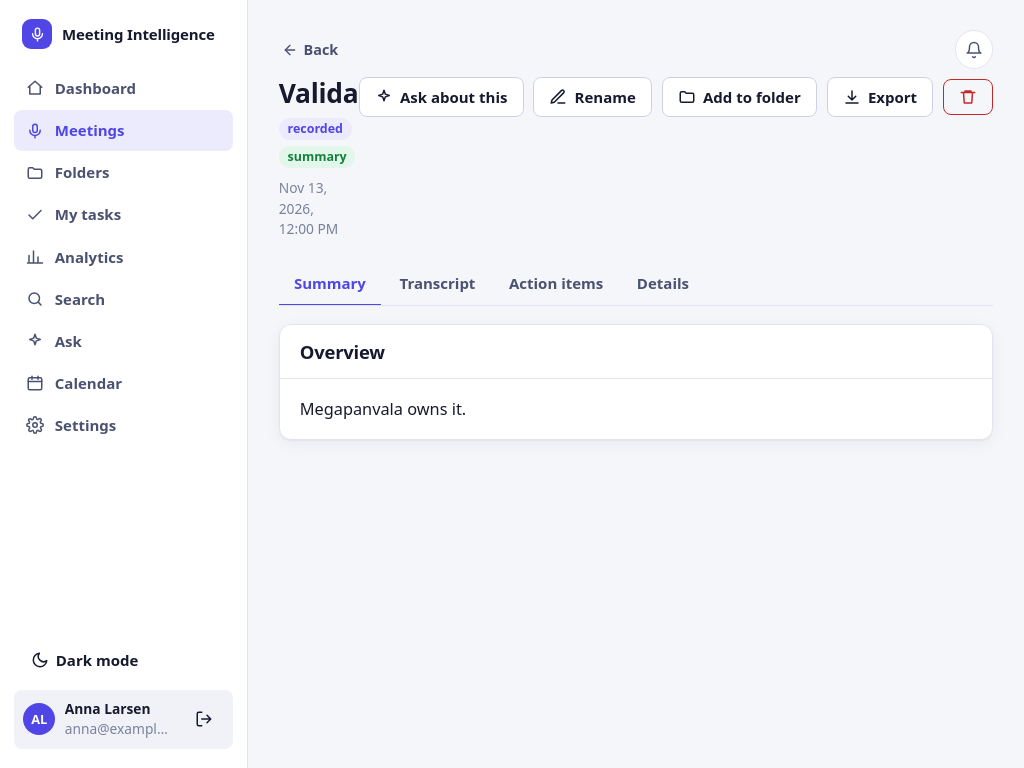
correcting the transcript › find & replace: starts from the selected word, shows the count, replaces everywhere
This screenshot has width=1024, height=768.
Step 1. Click the tab "Transcript" → (437, 284), box [384,262,491,306]
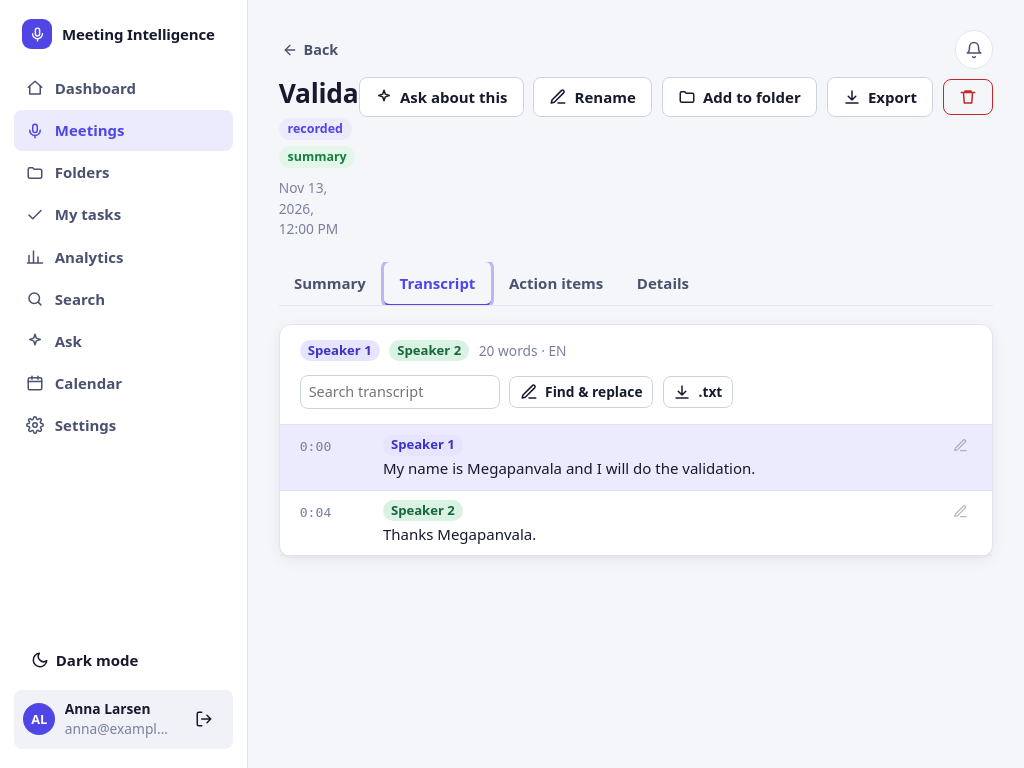
Expected: the text "My name is Megapanvala and I will do the validation." is shown, [383,458,755,478]
Step 2. Click the button "Find & replace" → (581, 392), box [509,376,653,408]
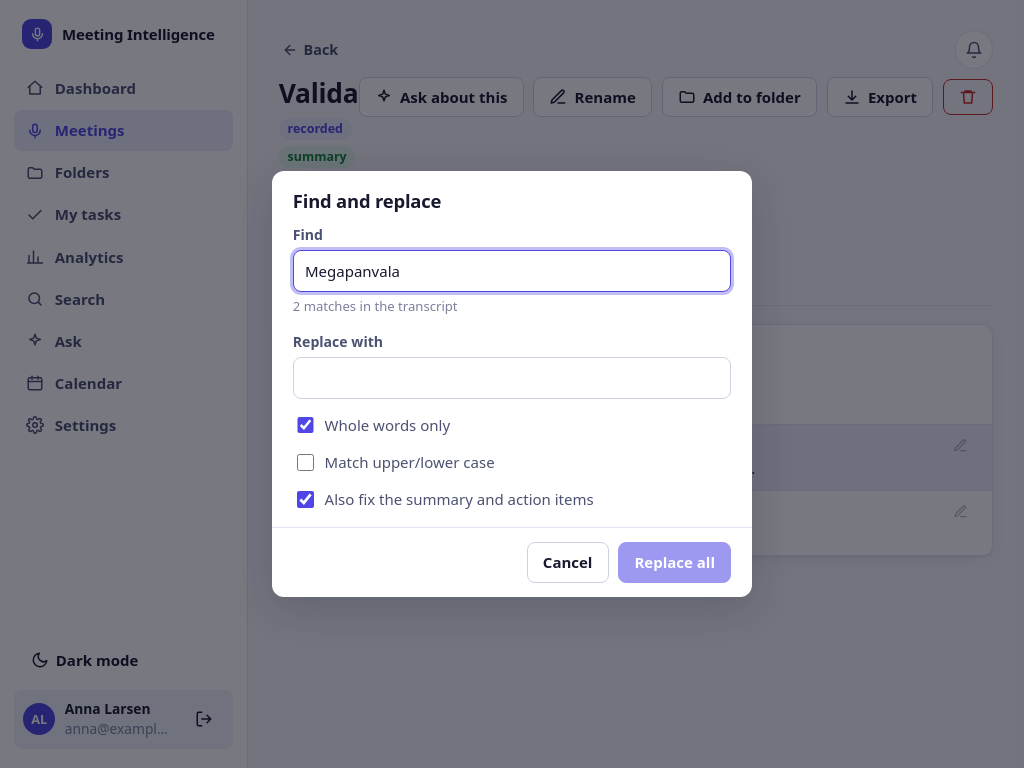
Expected: the field labelled "Find" holds "Megapanvala", [293,250,731,292]
Expected: the text "2 matches in the transcript" is shown, [293,297,458,315]
Expected: the button "Replace all" is disabled, [618,542,731,583]
Step 3. Type "Megha Panwala" into the field labelled "Replace with" → (512, 378), box [293,357,731,399]
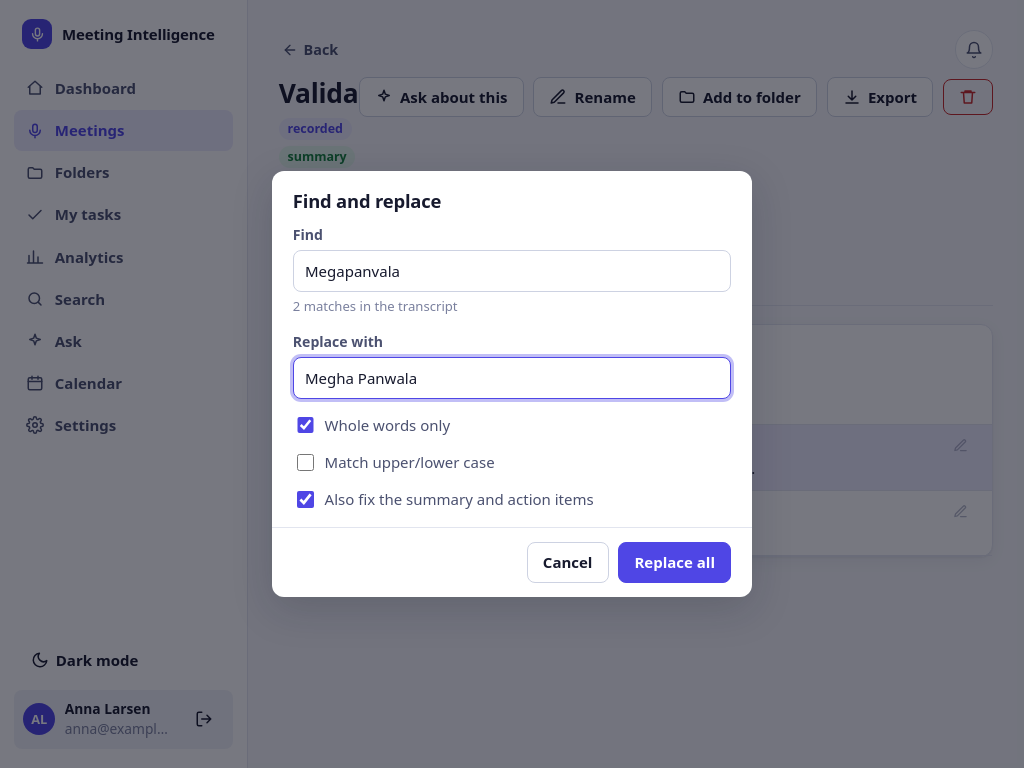
Step 4. Click the button "Replace all" → (675, 562), box [618,542,731,583]
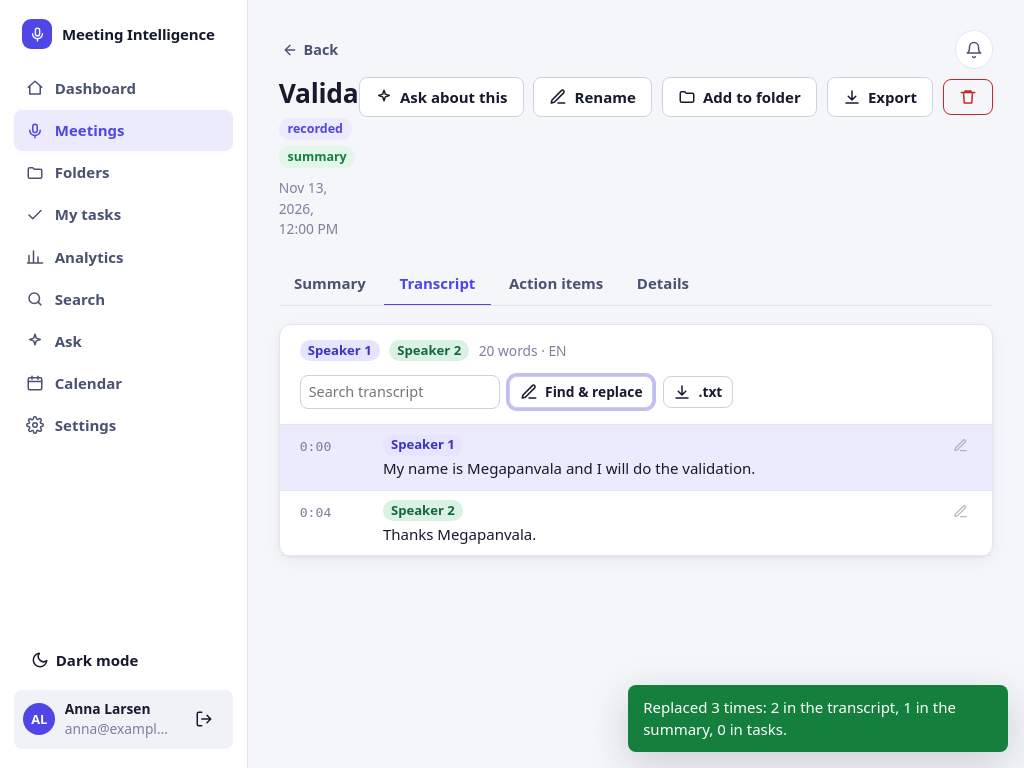
Expected: the text "Replaced 3 times: 2 in the transcript, 1 in the summary, 0 in tasks." is shown, [628,685,1008,752]
Expected: the dialog is gone
